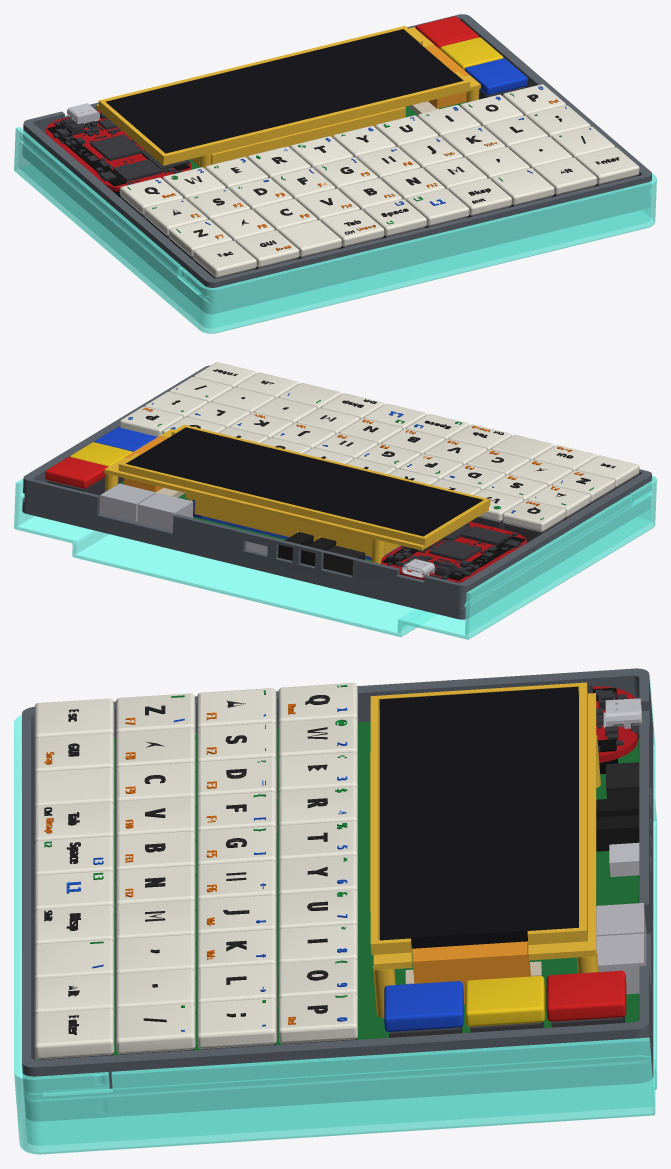
Rendered from cradle_slate.glb.
3 views of the same model, one above another, from view 1: azimuth 30°, elevation 25°; view 2: azimuth 150°, elevation 25°; view 3: azimuth 270°, elevation 25° (orthographic). The views are drawn at different scales.
Parts seen in each view (by area): view 1: Internals, Lid, Tray; view 2: Internals, Lid, Tray; view 3: Internals, Lid, Tray.
Boxes of the visible parts, <box> form: Internals: <box>46,16,639,278</box>; Lid: <box>14,127,656,333</box>; Tray: <box>23,14,651,313</box>; Internals: <box>45,362,639,582</box>; Lid: <box>14,475,656,639</box>; Tray: <box>22,365,651,619</box>; Internals: <box>34,682,646,1060</box>; Lid: <box>14,672,656,1154</box>; Tray: <box>22,668,653,1120</box>.
Bounding box in the file's own units: 0.1818 × 0.0365 × 0.1342.
